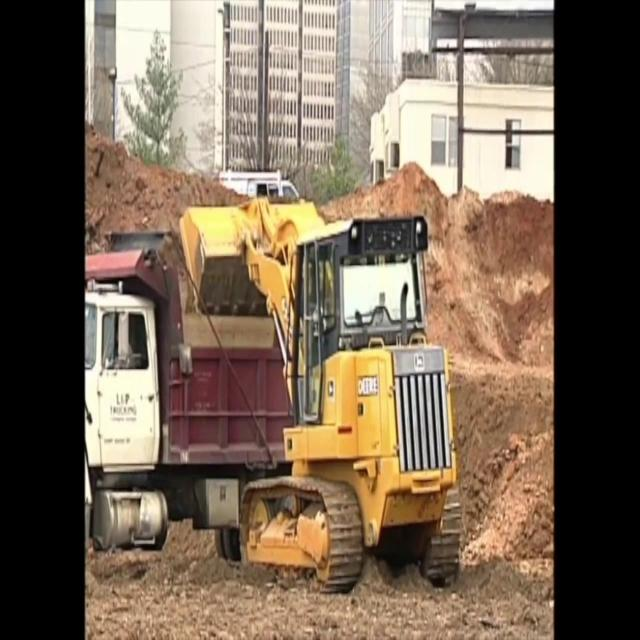buldozerpayloadergrader: (181, 191, 463, 598)
dump_truck: (85, 227, 304, 569)
